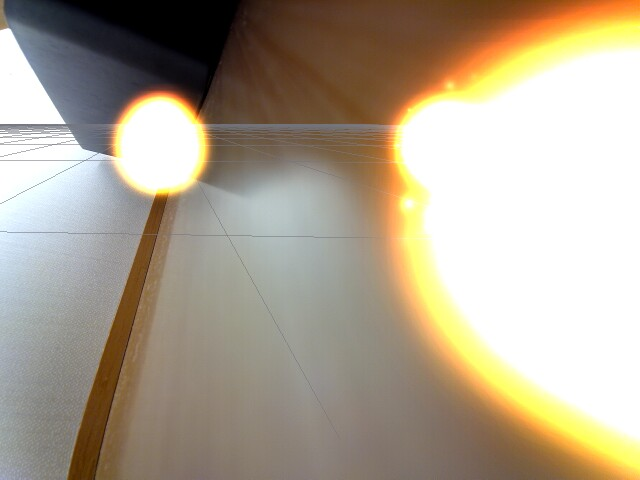fire: (393, 24, 639, 468), (110, 88, 210, 200), (392, 88, 474, 182)
